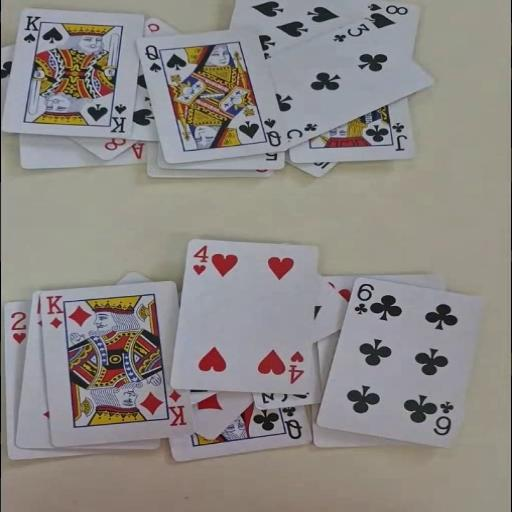2: (8, 309, 29, 345)
3: (331, 21, 372, 43), (284, 121, 319, 141)
4: (286, 349, 306, 385), (190, 243, 209, 276)
6: (430, 399, 455, 436), (351, 282, 376, 316)
8: (365, 2, 409, 16), (102, 135, 128, 152)
J: (389, 120, 408, 152)
K: (164, 388, 186, 426), (44, 293, 64, 330), (20, 13, 42, 44), (107, 102, 128, 134)
Q: (262, 116, 284, 148), (142, 43, 162, 73)
